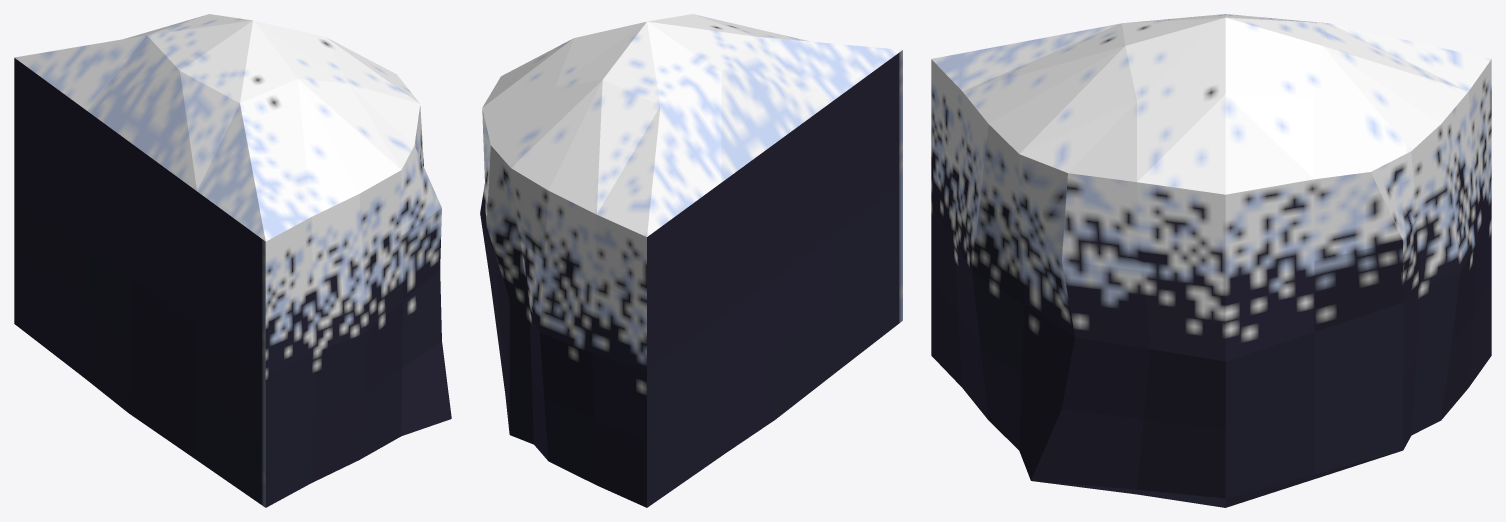
Rendered from Mountain_Walls_Large_01.obj.
3 views of the same model, side by side, from view 1: azimuth 30°, elevation 25°; view 2: azimuth 150°, elevation 25°; view 3: azimuth 270°, elevation 25° (orthographic). The views are drawn at different scales.
Parts seen in each view (by area): view 1: Cube; view 2: Cube; view 3: Cube.
Boxes of the visible parts, <box> form: Cube: <box>14,14,451,507</box>; Cube: <box>480,14,902,507</box>; Cube: <box>931,14,1491,507</box>.
Size of the model in its own units: 2.28 by 3.31 by 3.43.
